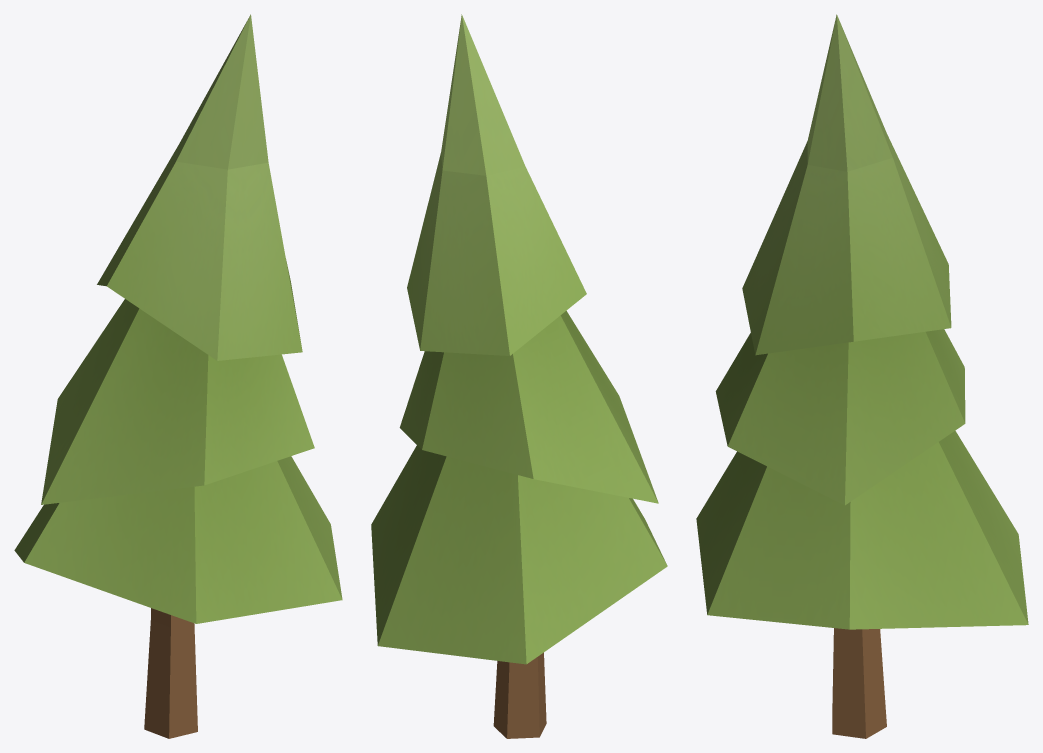
Rendered from Pine_Tree_s_BT_04.fbx.
3 renders of one model, left to right at view 1: azimuth 30°, elevation 25°; view 2: azimuth 150°, elevation 25°; view 3: azimuth 270°, elevation 25°, orthographic. The views are drawn at different scales.
Parts seen in each view (by area): view 1: Pine_Tree_s_BT_04; view 2: Pine_Tree_s_BT_04; view 3: Pine_Tree_s_BT_04.
Boxes of the visible parts, x1,y1,x2,y2 form: Pine_Tree_s_BT_04: (14,14,342,738); Pine_Tree_s_BT_04: (371,14,667,738); Pine_Tree_s_BT_04: (696,14,1028,738).
Size of the model in its own units: 132 by 292 by 117.
